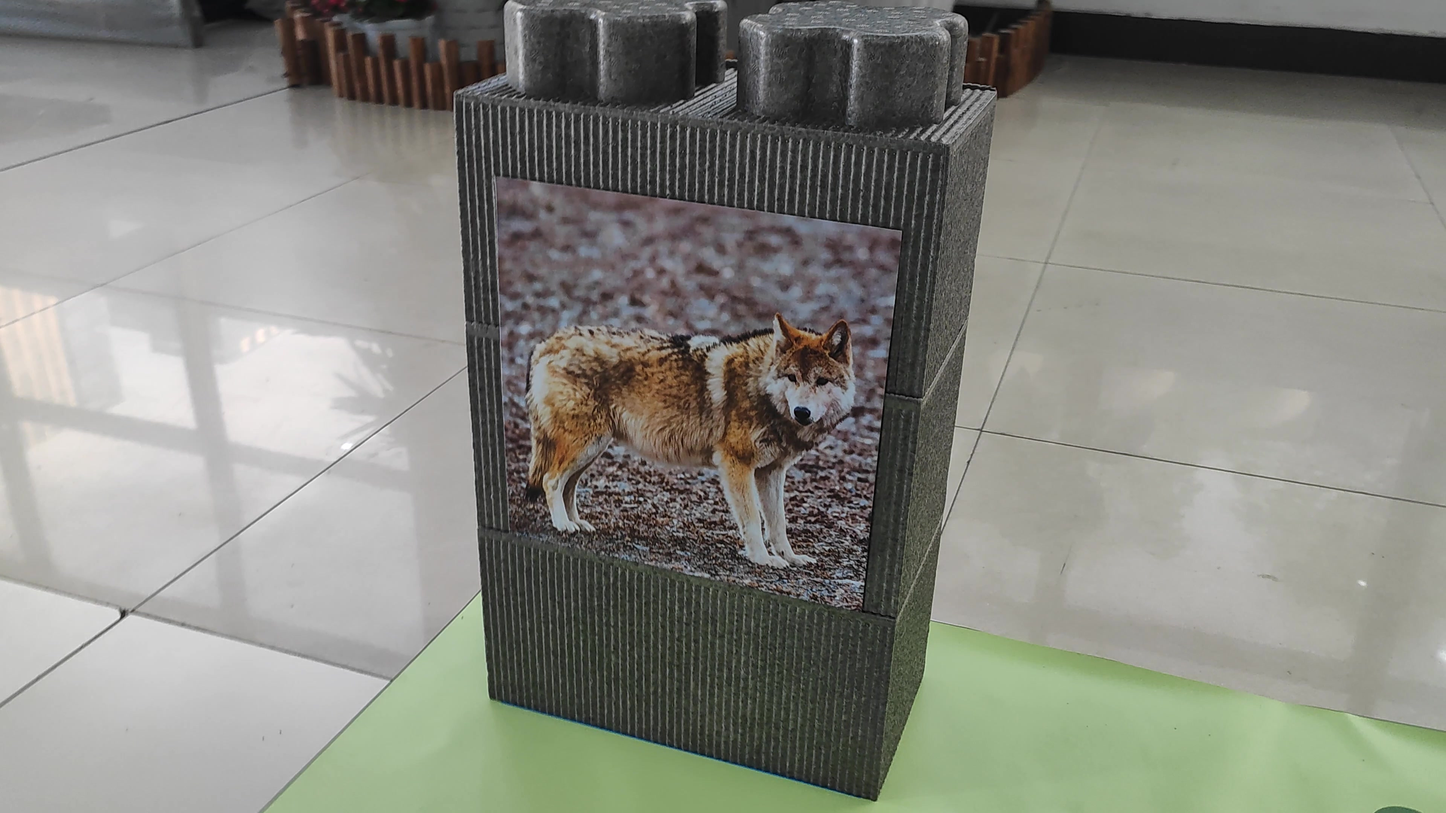wolf: (488, 186, 867, 573)
